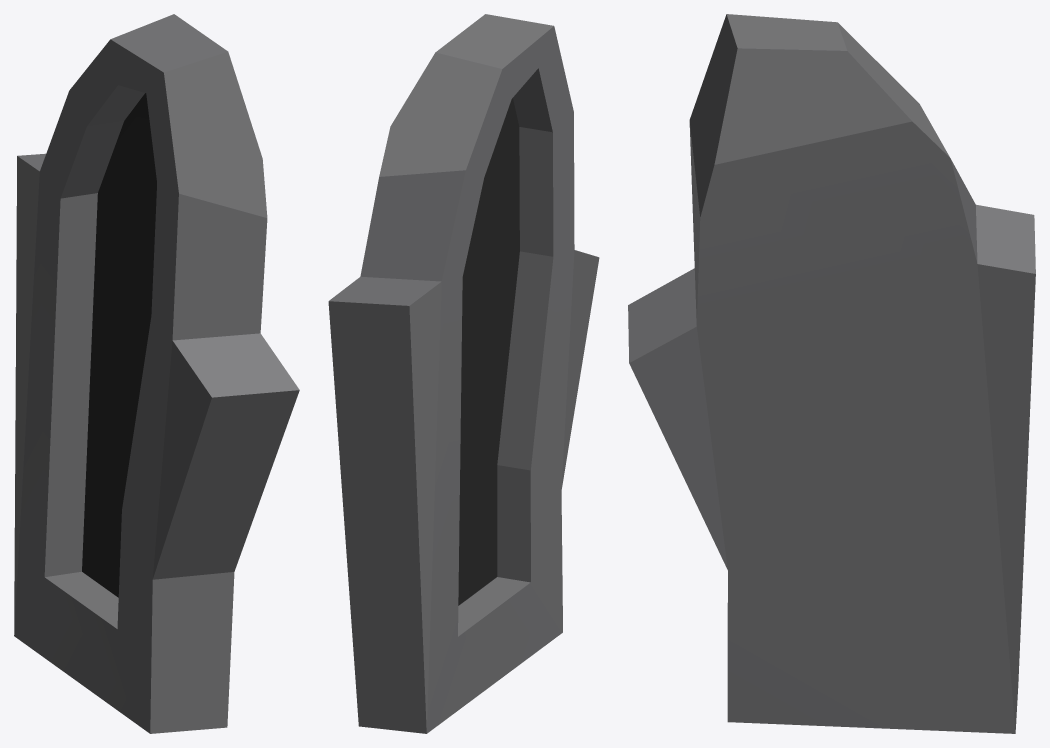
File: ea_grave_stone_mini_01b_pre_lev1.glb
3 views of the same model, side by side, from view 1: azimuth 30°, elevation 25°; view 2: azimuth 150°, elevation 25°; view 3: azimuth 270°, elevation 25° (orthographic). The views are drawn at different scales.
Parts seen in each view (by area): view 1: ea_grave_stone_mini_01b_pre_lev1; view 2: ea_grave_stone_mini_01b_pre_lev1; view 3: ea_grave_stone_mini_01b_pre_lev1.
Part boxes in pixels (x1=…): ea_grave_stone_mini_01b_pre_lev1: x1=14, y1=14, x2=299, y2=733; ea_grave_stone_mini_01b_pre_lev1: x1=328, y1=14, x2=599, y2=733; ea_grave_stone_mini_01b_pre_lev1: x1=628, y1=14, x2=1035, y2=733.
Size of the model in its own units: 0.1765 by 1.09 by 0.5862.
1 material, 1 textured.
